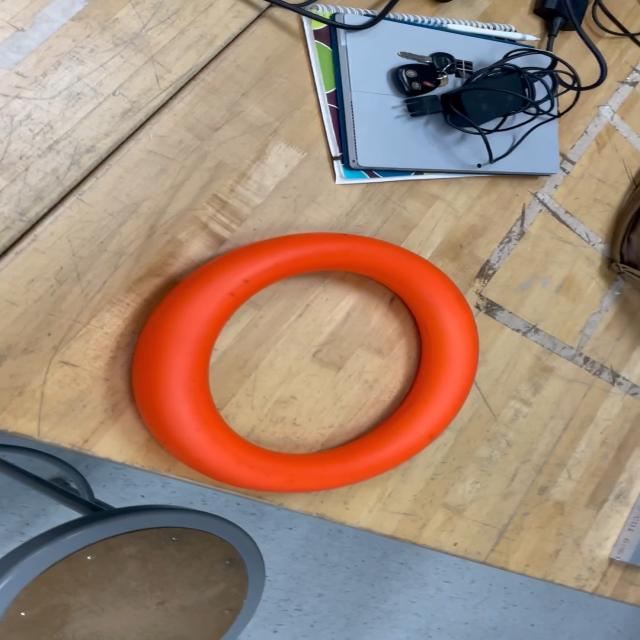note: (130, 238, 478, 496)
